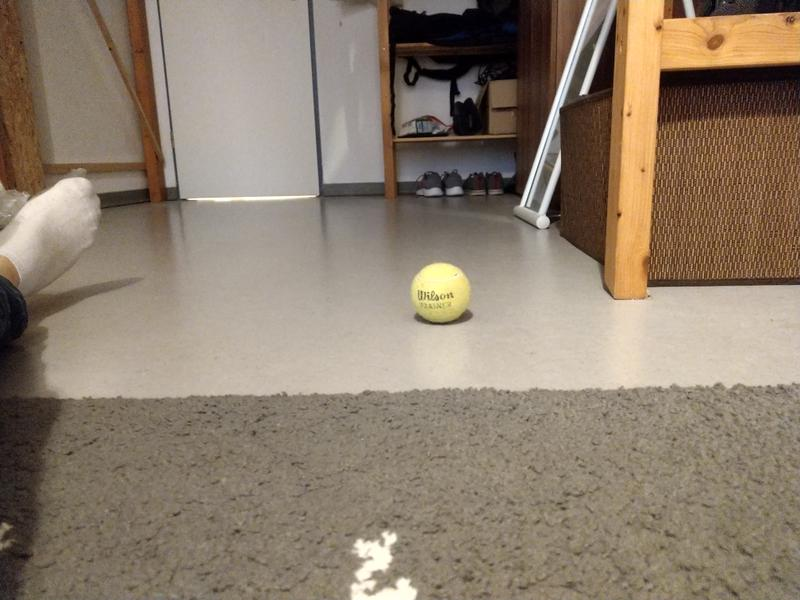Tennisball: (407, 259, 474, 326)
